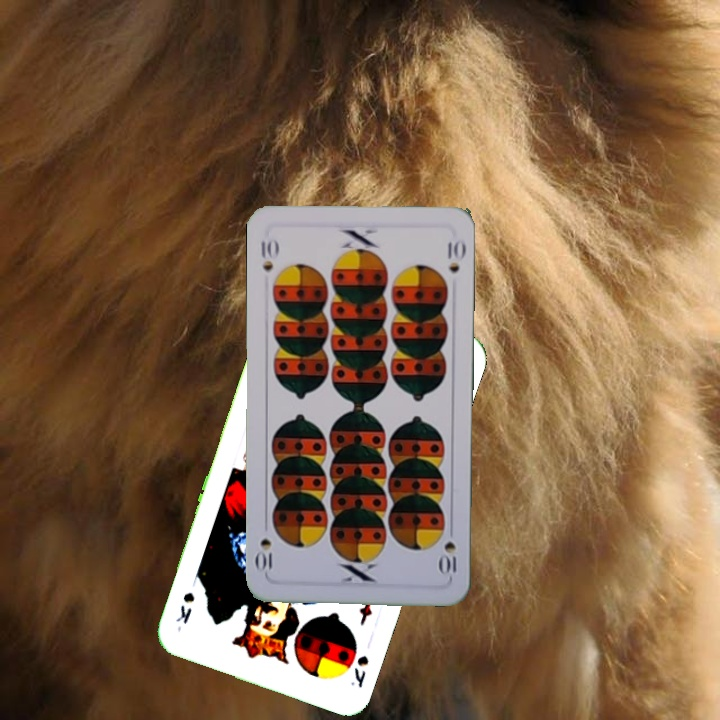S10: (438, 521, 459, 577), (256, 236, 280, 274)
SK: (346, 651, 372, 691)
